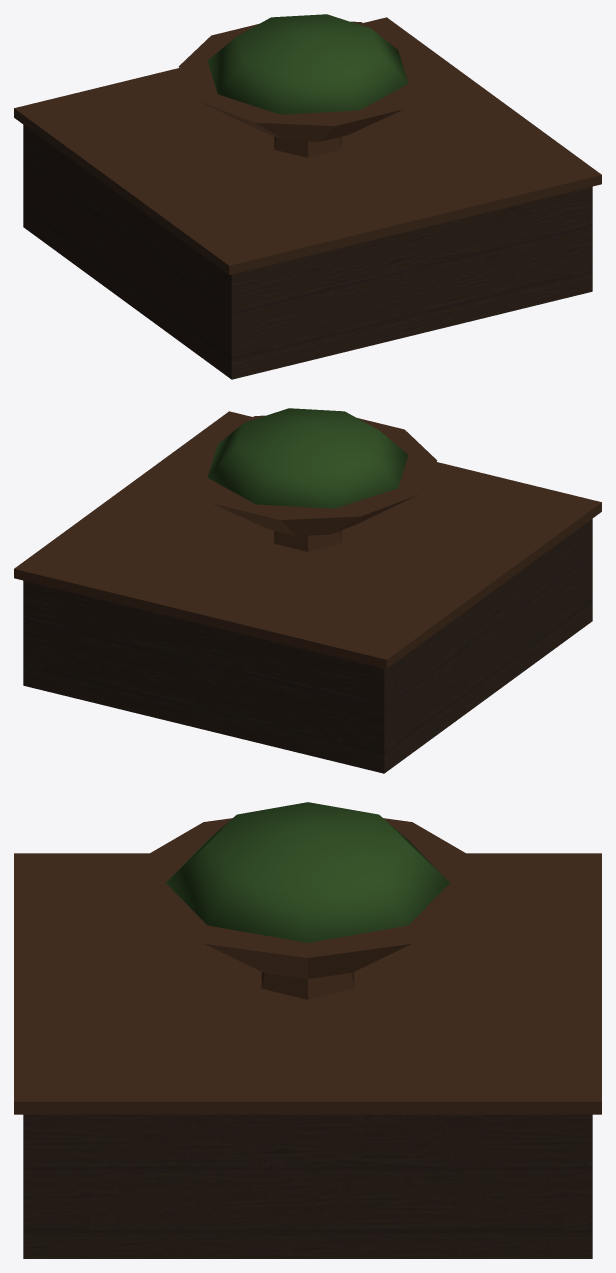
File: bowl_planter.glb
3 renders of one model, top to bottom at view 1: azimuth 30°, elevation 25°; view 2: azimuth 150°, elevation 25°; view 3: azimuth 270°, elevation 25°, orthographic. The views are drawn at different scales.
Parts seen in each view (by area): view 1: bowl_planter; view 2: bowl_planter; view 3: bowl_planter.
Boxes of the visible parts, x1,y1,x2,y2 form: bowl_planter: [14, 14, 601, 379]; bowl_planter: [14, 408, 601, 773]; bowl_planter: [14, 802, 601, 1258].
Size of the model in its own units: 2.48 by 1.44 by 2.48.
3 materials, 1 textured.
